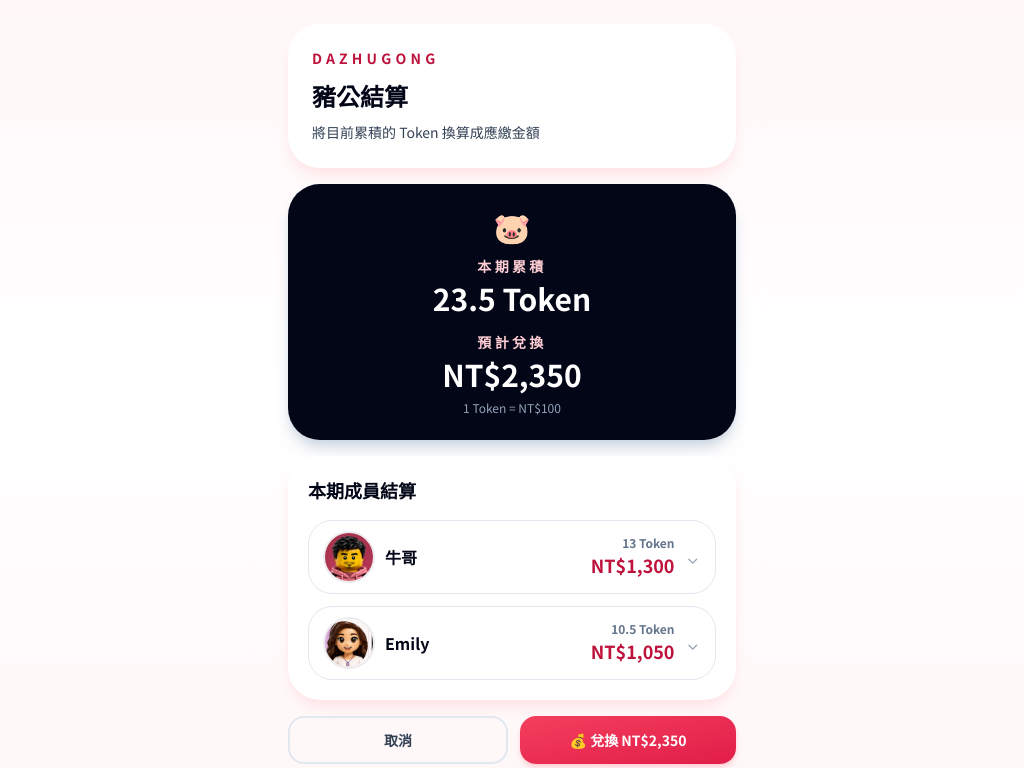
it: Settlement preview › requires confirmation before redeeming, then shows the completion screen after confirming
The image size is (1024, 768).
Click the button "💰 兌換 NT$2,350": click(628, 740) top-left (520, 716), bottom-right (736, 764)
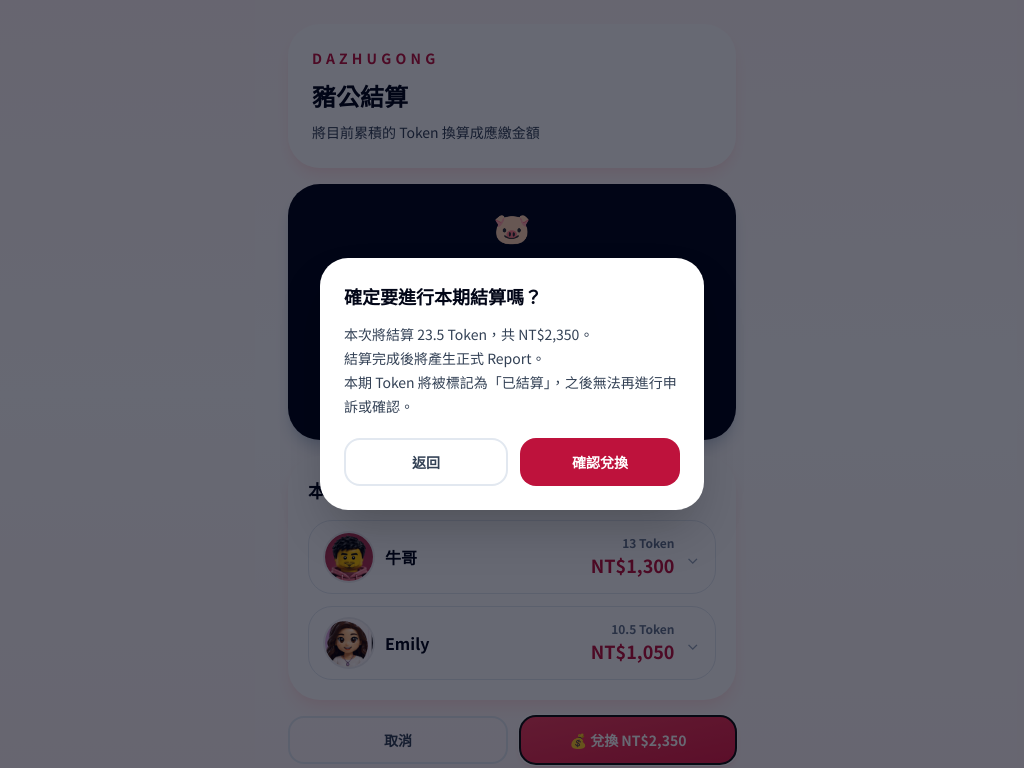
Expected: the text "本次將結算 23.5 Token，共 NT$2,350" is shown, top-left (344, 322), bottom-right (680, 418)
Click the button "確認兌換": click(600, 462) top-left (520, 438), bottom-right (680, 486)
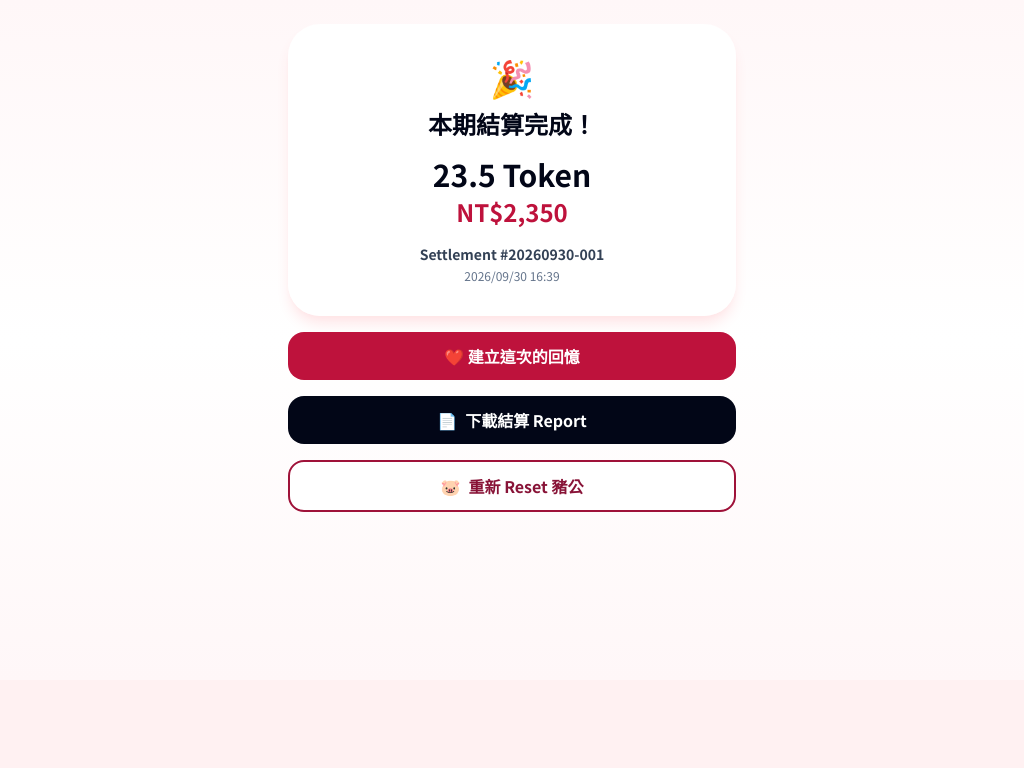
Expected: the heading "本期結算完成！" is shown, top-left (428, 106), bottom-right (596, 141)
Expected: the text "Settlement #20260930-001" is shown, top-left (420, 244), bottom-right (604, 264)
